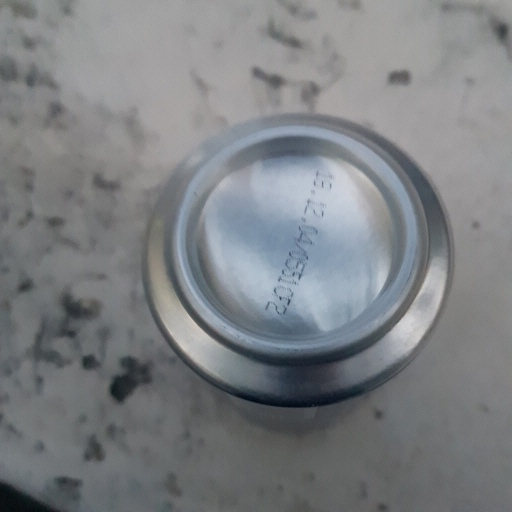Metal_0: (132, 111, 455, 437)
